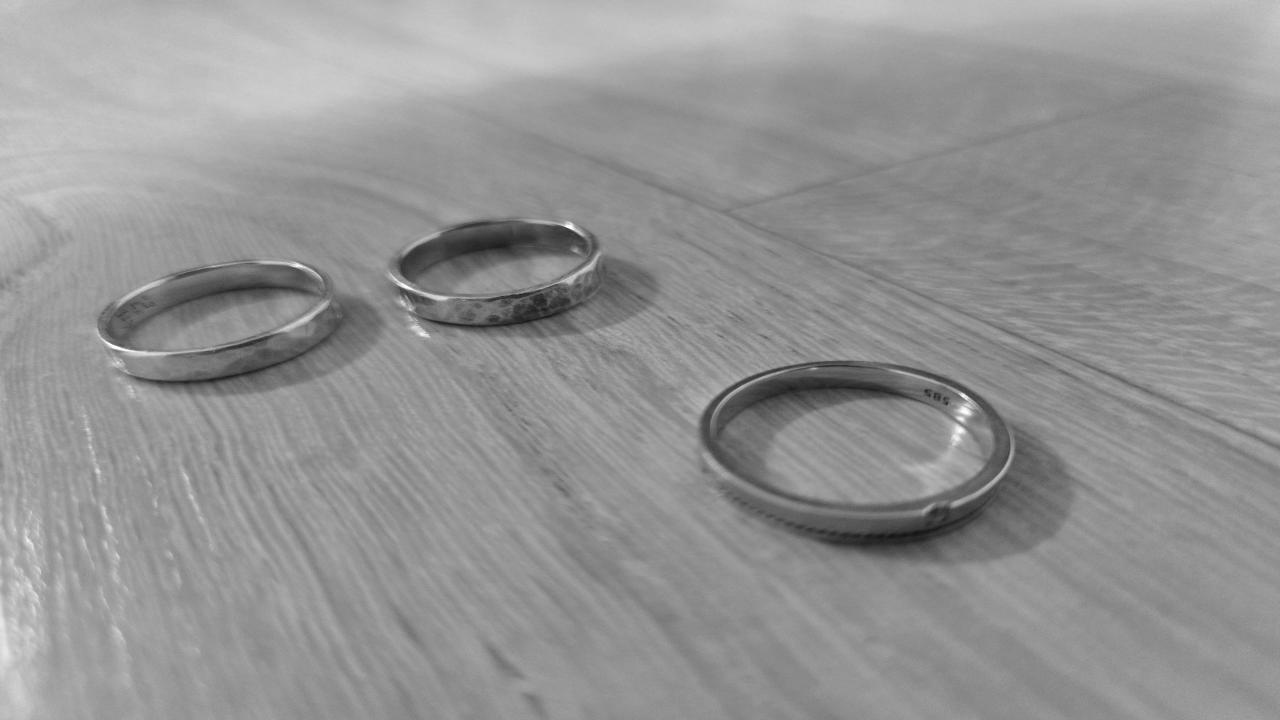ring: (696, 362, 1014, 534), (92, 258, 337, 381), (384, 216, 605, 325)
